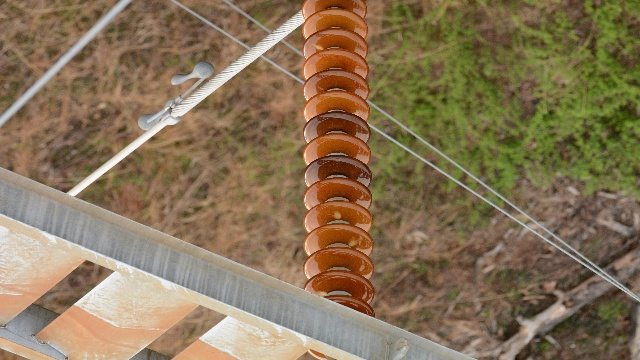insulator_unspecified: (296, 0, 377, 327)
pollution_flashover_local: (348, 235, 362, 246), (331, 208, 342, 221), (312, 42, 326, 52), (314, 288, 327, 298)
